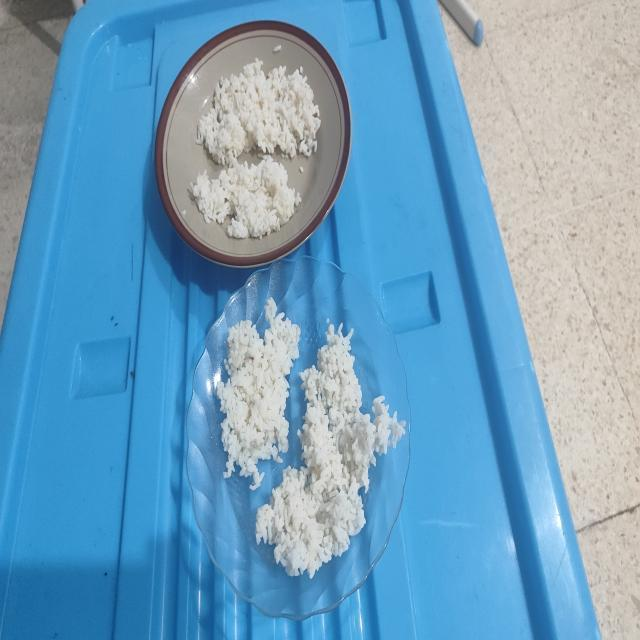nasi_putih: (255, 324, 406, 578), (190, 61, 320, 239), (218, 298, 300, 490)
